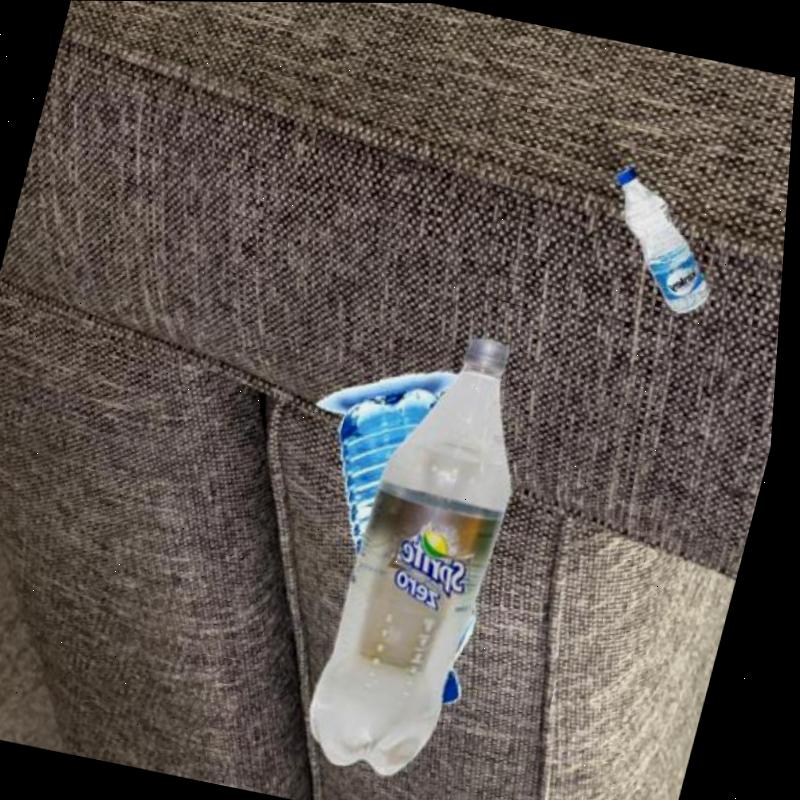botella: (305, 315, 562, 790), (284, 371, 545, 706), (582, 161, 744, 320)
